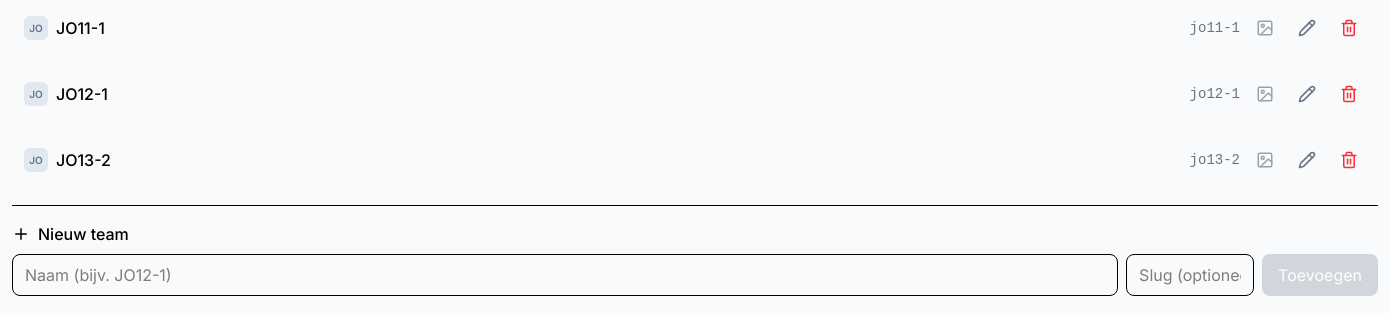
it: TeamsTab › Create Team (CRUD) › enables add button when name is entered
Type "JO14-1" into the field with placeholder "Naam (bijv. JO12-1)". click: coordinates (565, 275)
box: [12,254,1118,296]
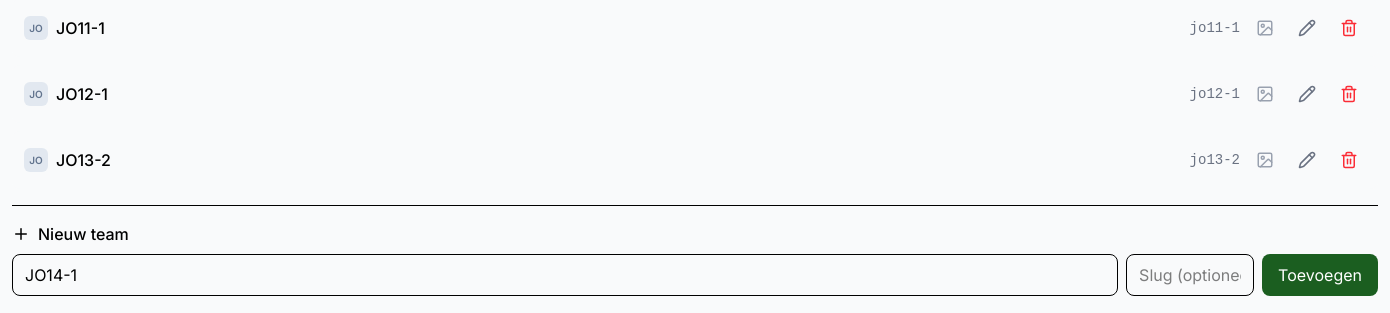
expect the button "Toevoegen" is enabled: met, box [1262,254,1378,296]
